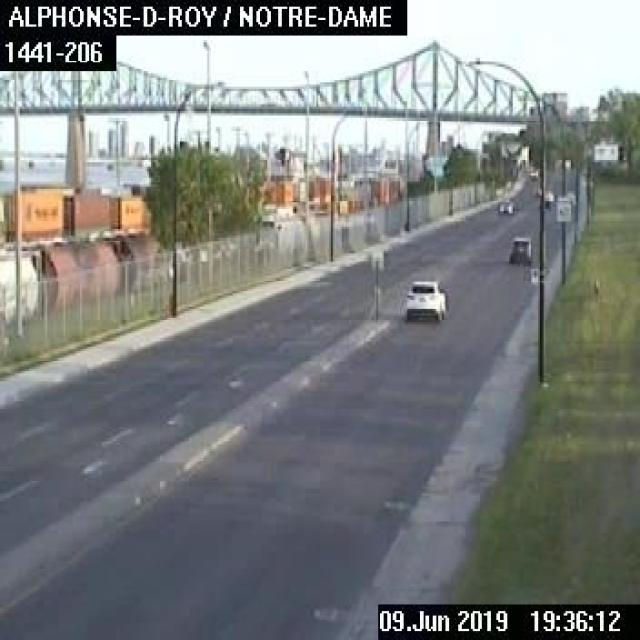vehicle: (404, 276, 446, 318), (506, 229, 532, 265), (494, 198, 514, 214)
